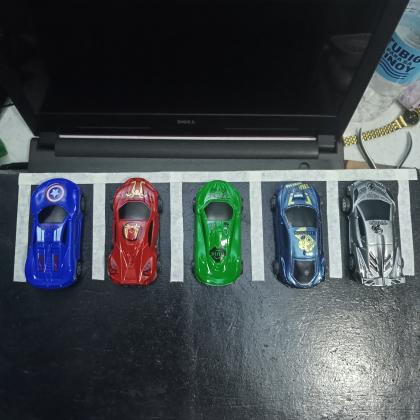Car: (24, 179, 86, 289), (270, 179, 327, 290), (347, 179, 405, 287), (108, 176, 160, 285), (192, 178, 243, 288)
